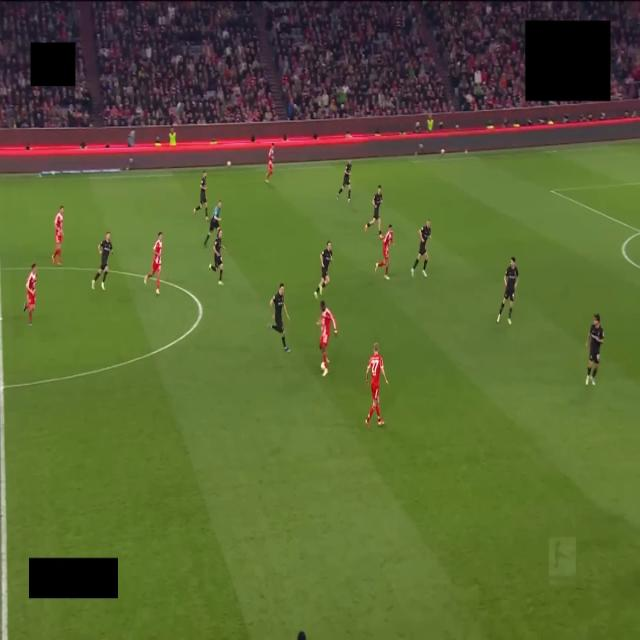ball: (321, 361, 325, 371)
player: (366, 344, 388, 426), (317, 301, 337, 376), (268, 283, 289, 351), (497, 257, 518, 324), (586, 314, 604, 384), (92, 232, 112, 289), (144, 232, 162, 295), (411, 220, 430, 277), (314, 242, 332, 297), (376, 225, 394, 279), (365, 185, 382, 237), (209, 229, 224, 285), (23, 264, 36, 326), (194, 171, 208, 221), (52, 206, 63, 265), (337, 160, 351, 202), (266, 144, 274, 183)
referee: (204, 200, 221, 246)
